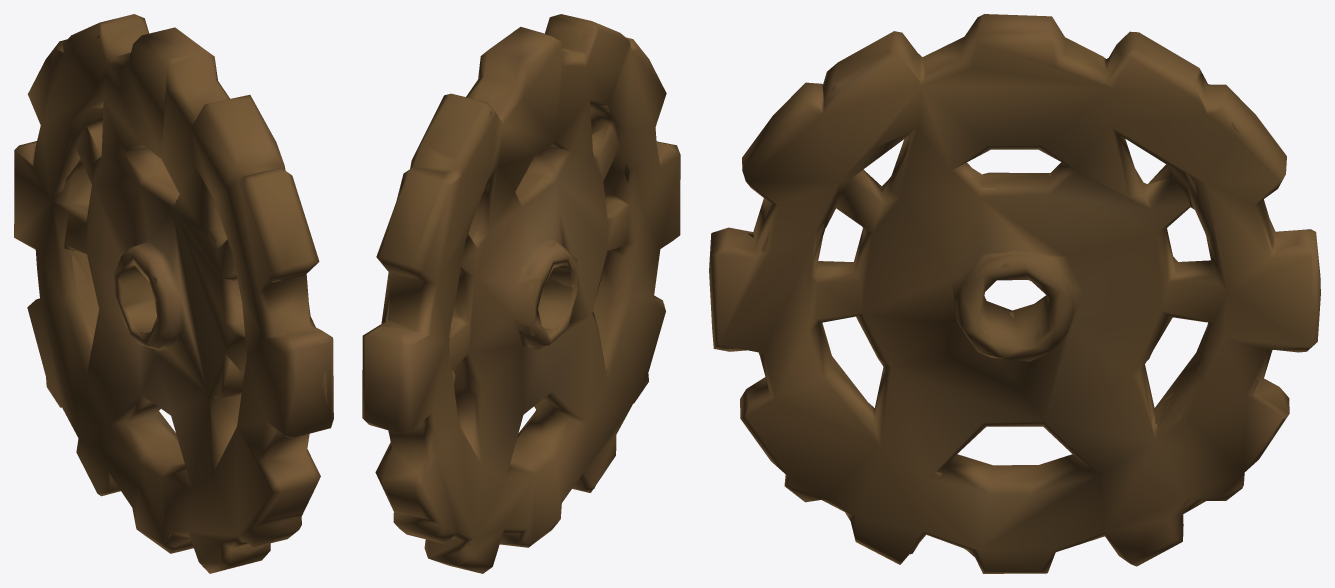
File: gen3d-giant-gear-lod1.glb
3 renders of one model, left to right at view 1: azimuth 30°, elevation 25°; view 2: azimuth 150°, elevation 25°; view 3: azimuth 270°, elevation 25°, orthographic. The views are drawn at different scales.
Visible parts, largest first — view 1: part_0; view 2: part_0; view 3: part_0.
Boxes of the visible parts, x1=… form: part_0: x1=14, y1=14, x2=333, y2=573; part_0: x1=362, y1=14, x2=680, y2=573; part_0: x1=709, y1=14, x2=1320, y2=573.
Bounding box in the file's own units: 0.1539 × 0.9986 × 1.02.
